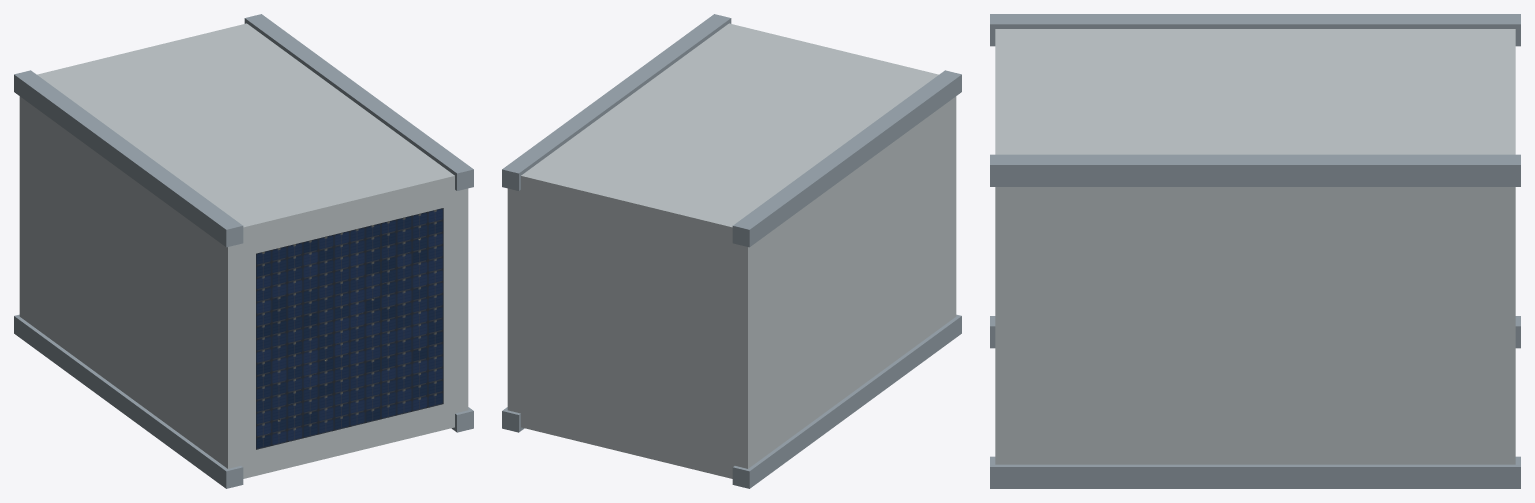
File: ref-cubesat-1-5u-37247.glb
3 renders of one model, left to right at view 1: azimuth 30°, elevation 25°; view 2: azimuth 150°, elevation 25°; view 3: azimuth 270°, elevation 25°, orthographic. The views are drawn at different scales.
Parts seen in each view (by area): view 1: Spacecraft body, Body-mounted cells, Dispenser rail (×3); view 2: Spacecraft body, Dispenser rail (×3); view 3: Spacecraft body, Dispenser rail (×3).
Part boxes in pixels (box(x1,y1,x2,y2)): Spacecraft body: box(19, 23, 468, 478); Body-mounted cells: box(256, 208, 443, 449); Dispenser rail (×3): box(14, 14, 473, 488); Spacecraft body: box(507, 23, 956, 478); Dispenser rail (×3): box(502, 14, 961, 488); Spacecraft body: box(995, 29, 1515, 464); Dispenser rail (×3): box(990, 14, 1520, 488).
Bounding box in the file's own units: 0.103 × 0.103 × 0.153.
3 materials, 1 textured.
